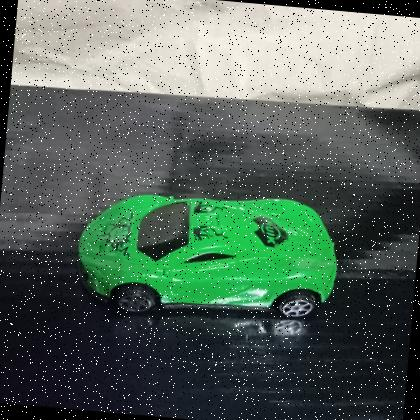Car: (66, 174, 351, 336)
